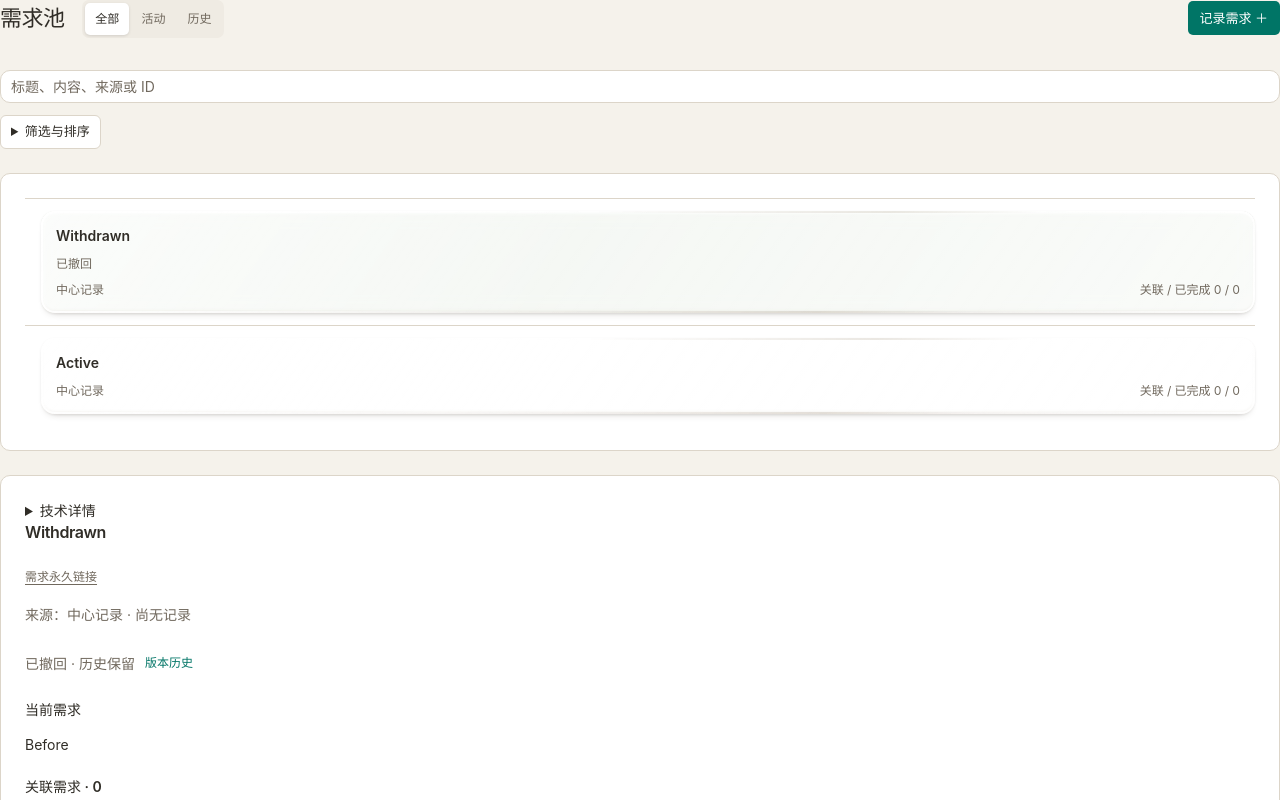
Test: keeps withdrawn requirements in history and out of the active pool
Click the button "活动" at (153, 19), box [131,3,175,35]
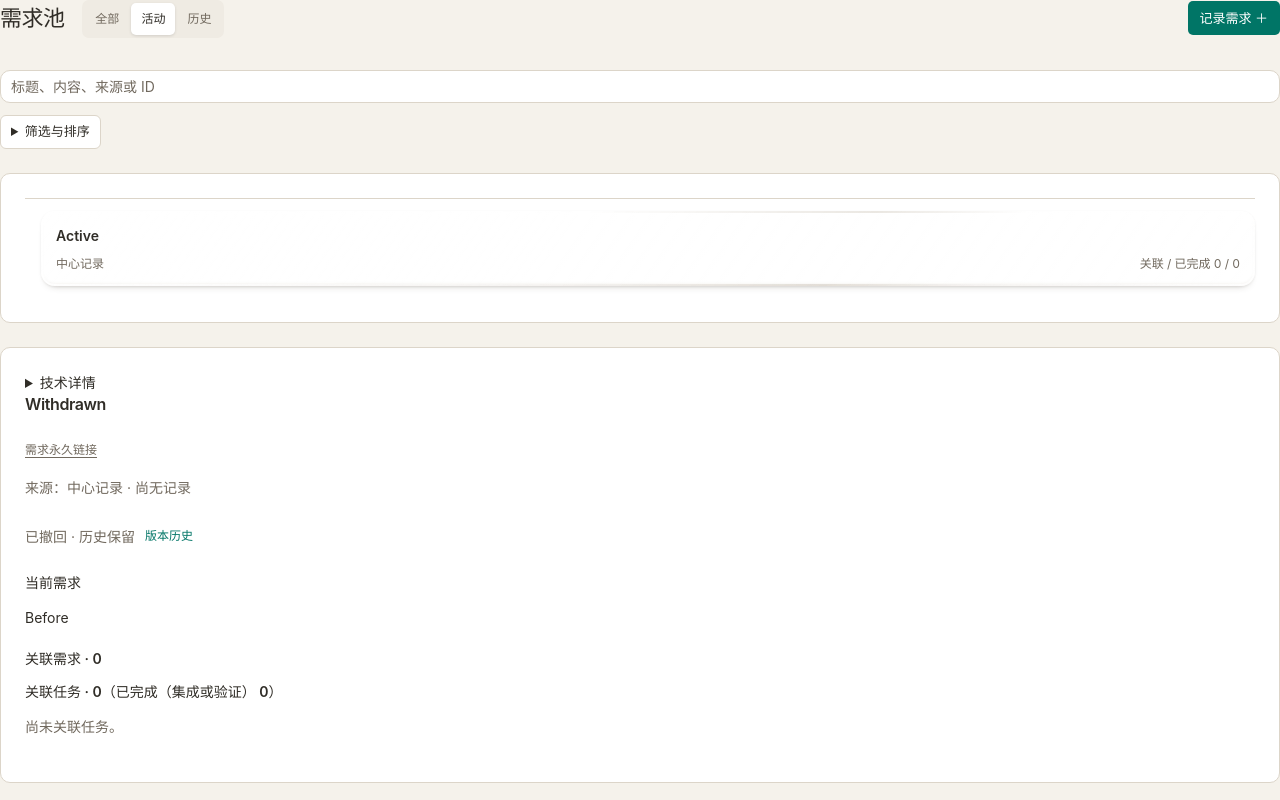
Now the button "Withdrawn 已撤回 中心记录 关联 / 已完成 0 / 0" is gone
Click the button "历史" at (199, 19), box [177,3,221,35]
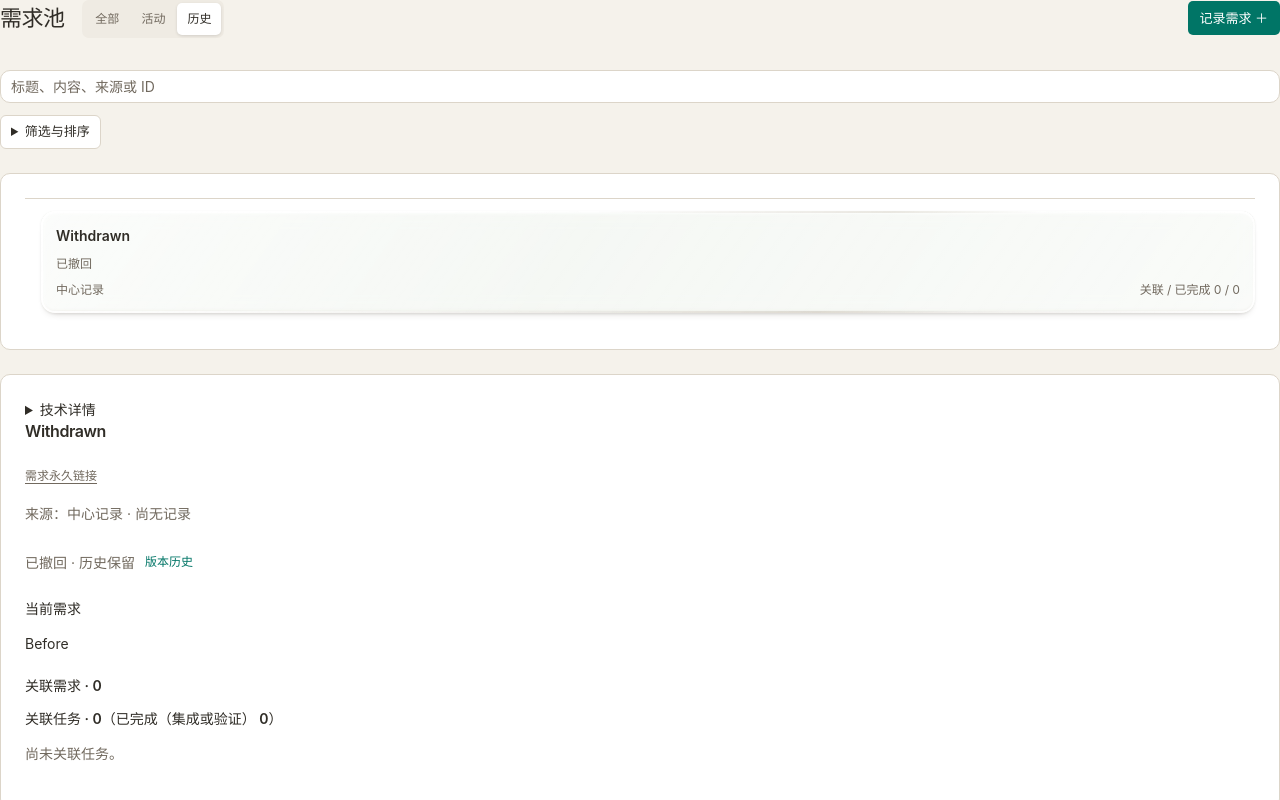
Now the button "Withdrawn 已撤回 中心记录 关联 / 已完成 0 / 0" is shown, box [41,210,1255,313]
